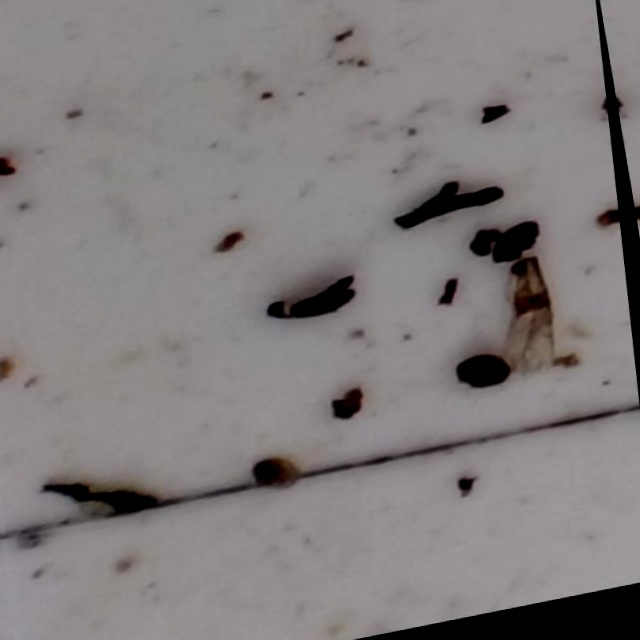varroa: (453, 357, 518, 400)
